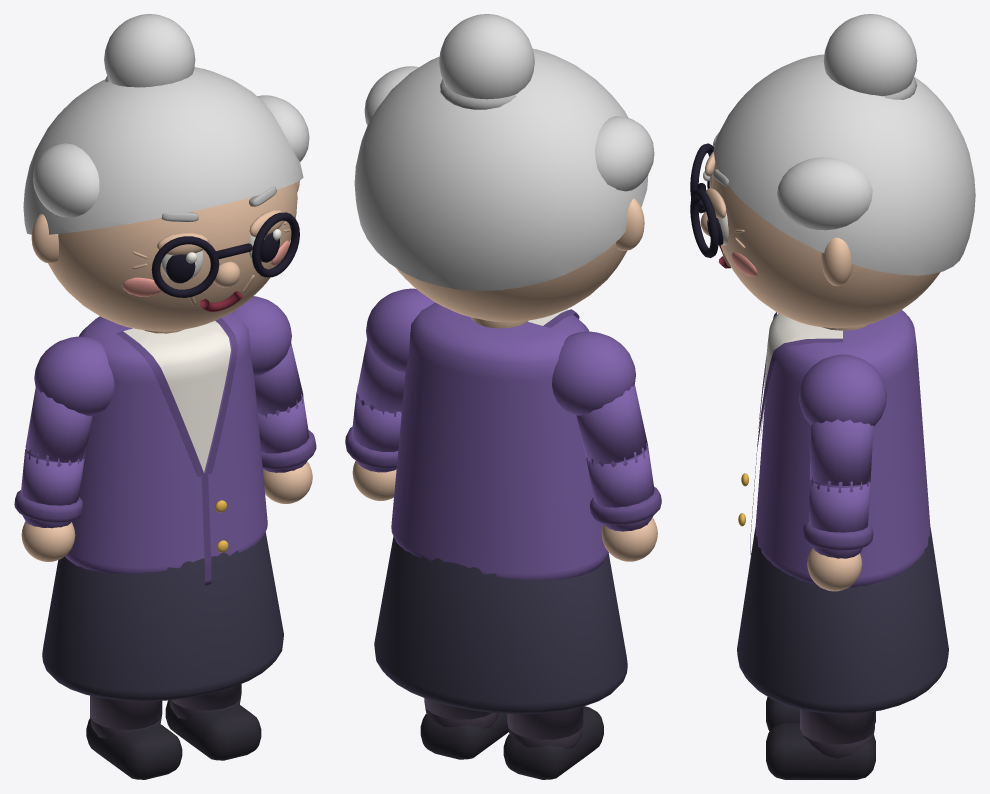
Rendered from ch_granny.fbx.
3 views of the same model, side by side, from view 1: azimuth 30°, elevation 25°; view 2: azimuth 150°, elevation 25°; view 3: azimuth 270°, elevation 25° (orthographic). The views are drawn at different scales.
Visible parts, largest first — view 1: ch_granny; view 2: ch_granny; view 3: ch_granny.
Boxes of the visible parts, x1,y1,x2,y2 form: ch_granny: (14,14,316,779); ch_granny: (345,14,661,779); ch_granny: (690,14,975,779).
Size of the model in its own units: 0.6598 by 1.55 by 0.5444.
